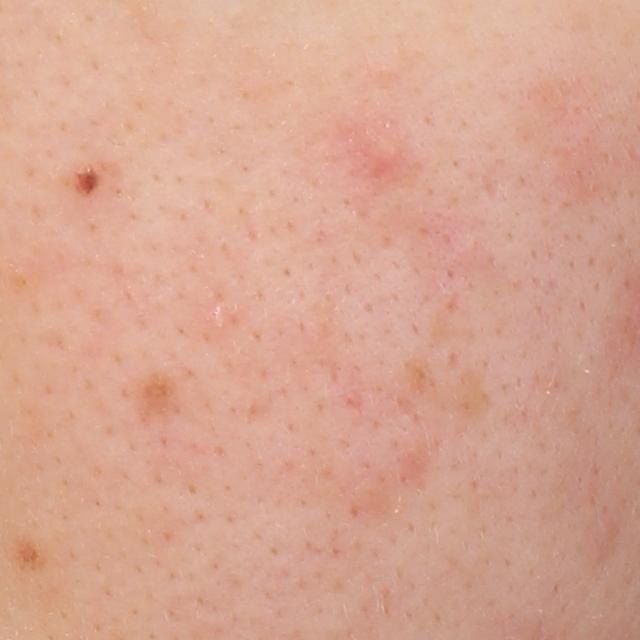comedo: (205, 303, 232, 334)
nevus: (70, 154, 104, 195)
